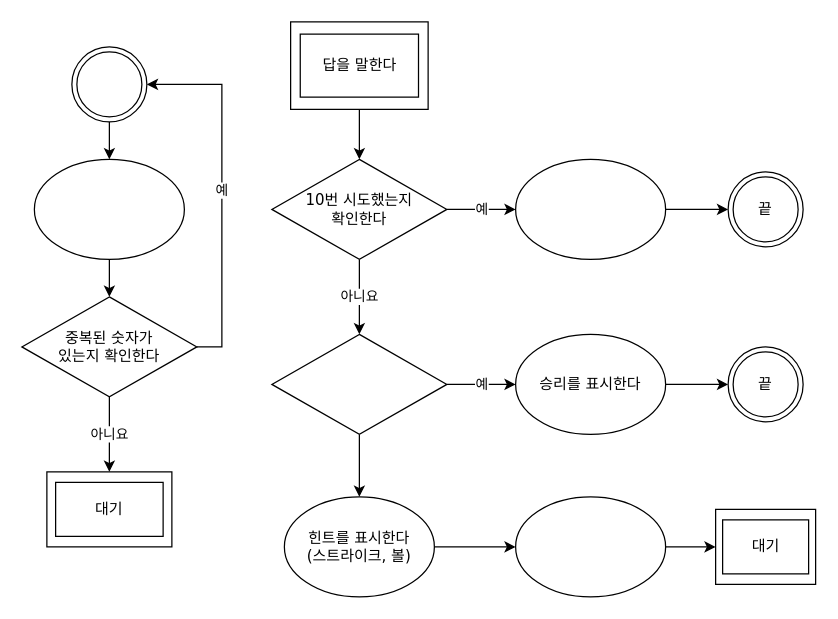
This 838x619 diagram has some shape labels left out. The centre of each missing label's shape, as x and y in pixels:
숫자 네 개를 고른다: (x=108, y=208)
시도 횟수를 1 증가시킨다: (x=590, y=546)
시작: (x=109, y=84)
정답을 확인한다: (x=359, y=383)
패배를 표시한다: (x=590, y=208)
